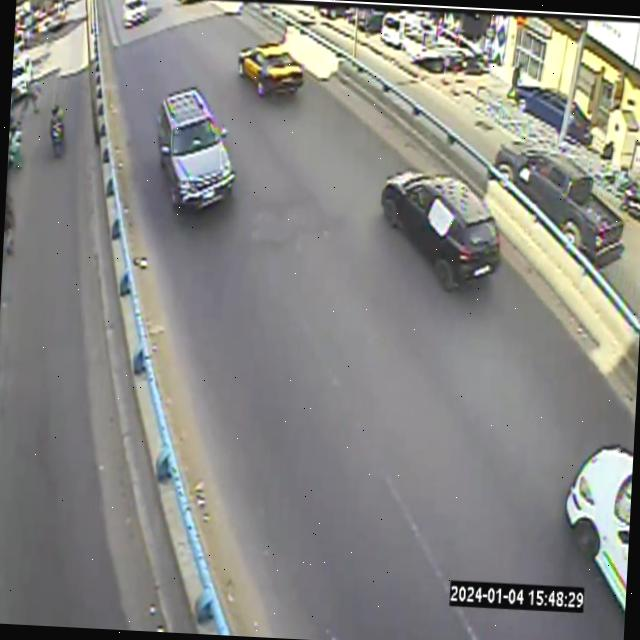car: (381, 170, 500, 291), (566, 446, 633, 610), (156, 87, 235, 208), (239, 44, 303, 96)
